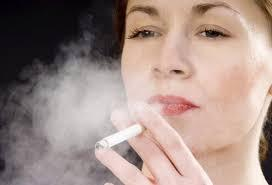smoke: (95, 121, 150, 151)
